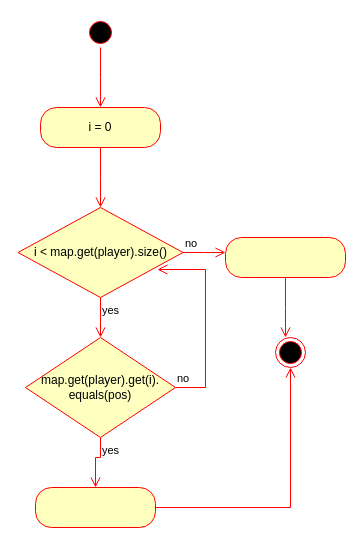
The diagram is 363 pixels wide and 545 high, and some of its shapes have lost their labels. Here are the shapes that lost their labels. From the top down, the centre of each, then its label:
At point 285,257: "return false".
At point 95,507: "return true".
